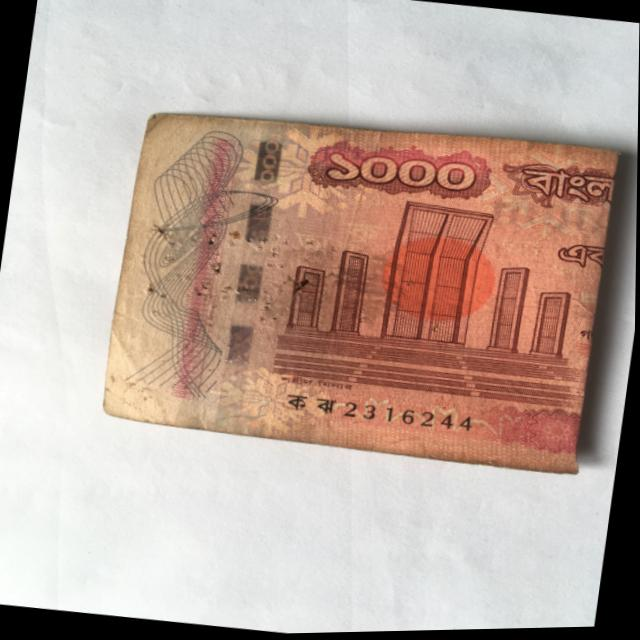Taka: (89, 85, 634, 496)
